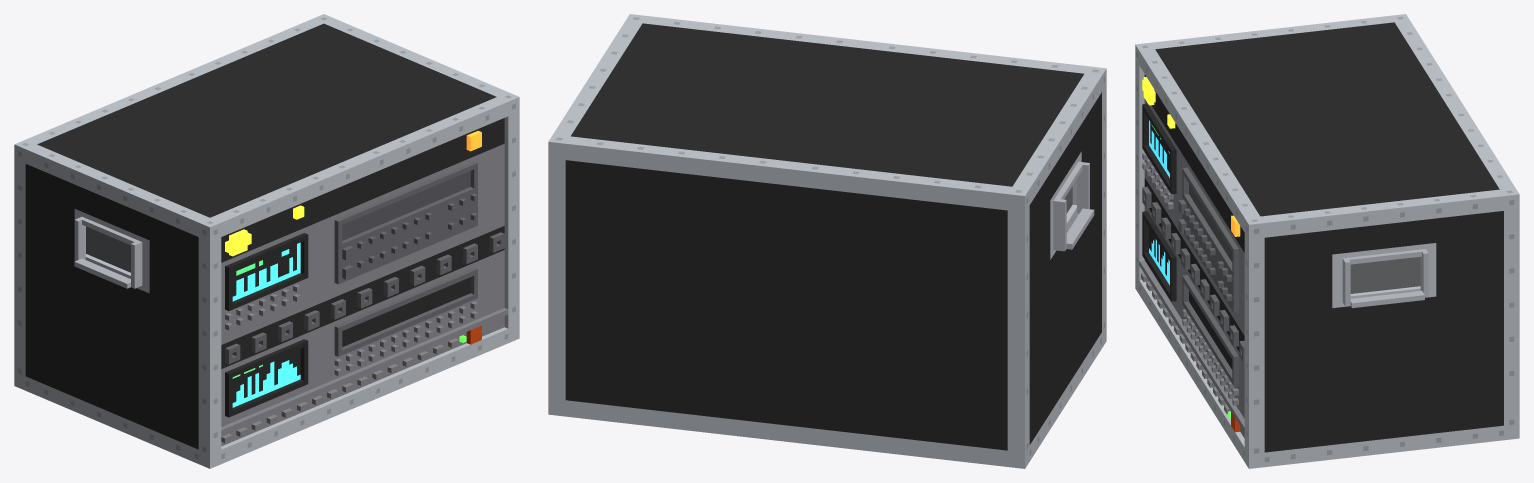
Rendered from jakaskorobka_0_lev1_lev3.glb.
3 views of the same model, side by side, from view 1: azimuth 30°, elevation 25°; view 2: azimuth 150°, elevation 25°; view 3: azimuth 270°, elevation 25° (orthographic). The views are drawn at different scales.
Visible parts, largest first — view 1: jakaskorobka_0_lev1_lev3; view 2: jakaskorobka_0_lev1_lev3; view 3: jakaskorobka_0_lev1_lev3.
Part boxes in pixels (x1=…): jakaskorobka_0_lev1_lev3: x1=14, y1=14, x2=519, y2=468; jakaskorobka_0_lev1_lev3: x1=548, y1=14, x2=1106, y2=468; jakaskorobka_0_lev1_lev3: x1=1135, y1=14, x2=1519, y2=468.
Size of the model in its own units: 1.75 by 0.9457 by 1.35.
1 material, 1 textured.
